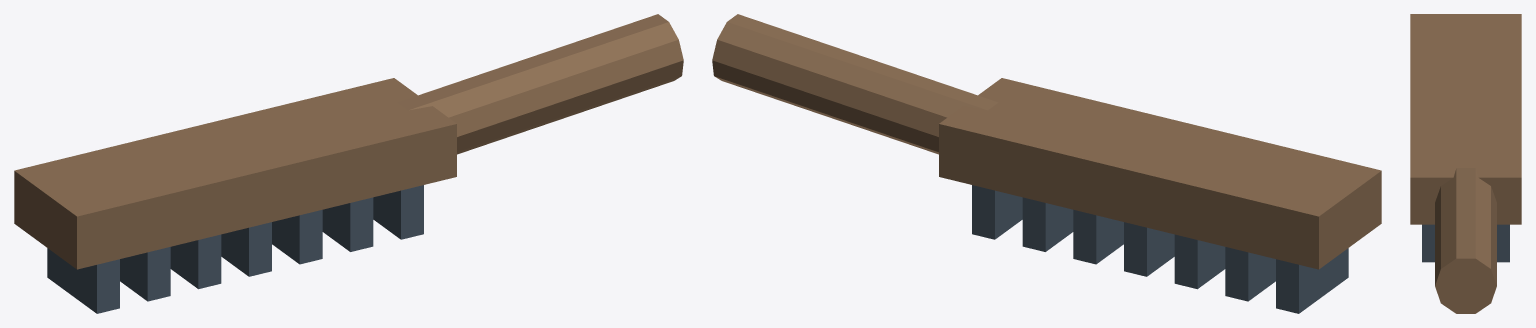
The model's file is L-29_wire_brush.glb.
3 renders of one model, left to right at view 1: azimuth 30°, elevation 25°; view 2: azimuth 150°, elevation 25°; view 3: azimuth 270°, elevation 25°, orthographic. The views are drawn at different scales.
Visible parts, largest first — view 1: L-29_wire_brush; view 2: L-29_wire_brush; view 3: L-29_wire_brush.
Part boxes in pixels (x1,y1,x2,y2): L-29_wire_brush: (14, 14, 683, 313); L-29_wire_brush: (712, 14, 1381, 313); L-29_wire_brush: (1410, 14, 1521, 313).
Bounding box in the file's own units: 0.246 × 0.0504 × 0.043.
